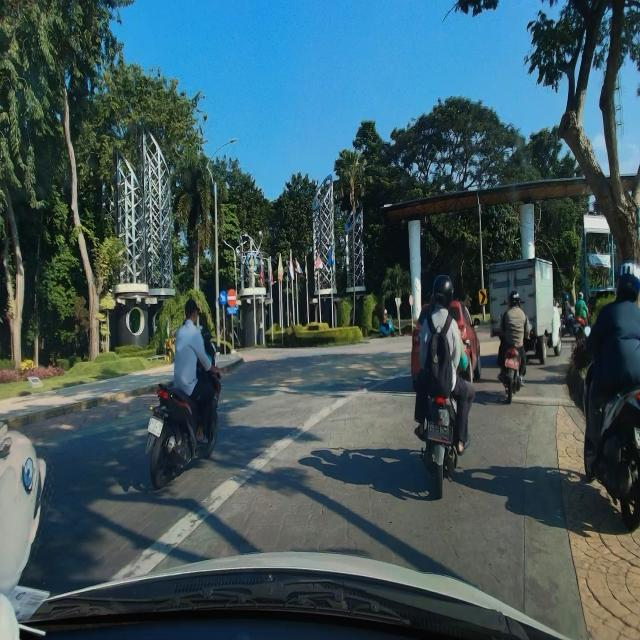car: (410, 298, 482, 387)
truck: (486, 255, 564, 367)
